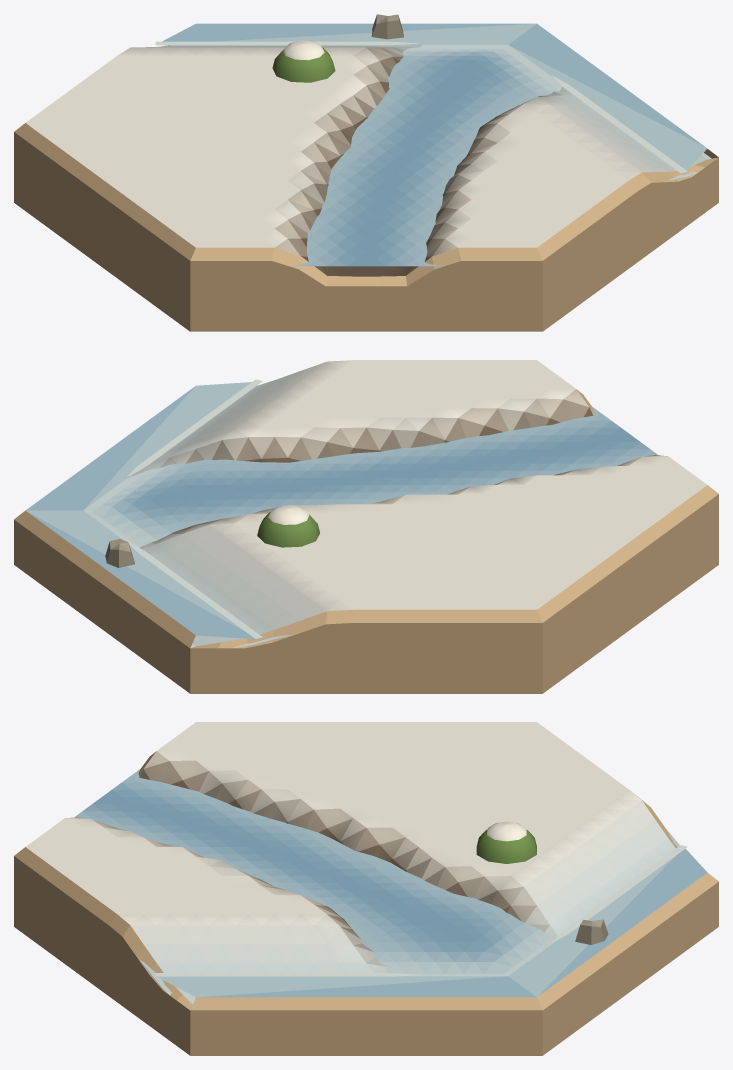
File: estuary_sea2_edge4_snow.fbx
3 views of the same model, one above another, from view 1: azimuth 30°, elevation 25°; view 2: azimuth 150°, elevation 25°; view 3: azimuth 270°, elevation 25° (orthographic).
Parts seen in each view (by area): view 1: estuary_sea2_edge4_snow; view 2: estuary_sea2_edge4_snow; view 3: estuary_sea2_edge4_snow.
Part boxes in pixels (x1=…): estuary_sea2_edge4_snow: x1=14, y1=14, x2=718, y2=331; estuary_sea2_edge4_snow: x1=14, y1=360, x2=718, y2=693; estuary_sea2_edge4_snow: x1=14, y1=722, x2=718, y2=1055.
Size of the model in its own units: 1.73 by 0.331 by 2.
